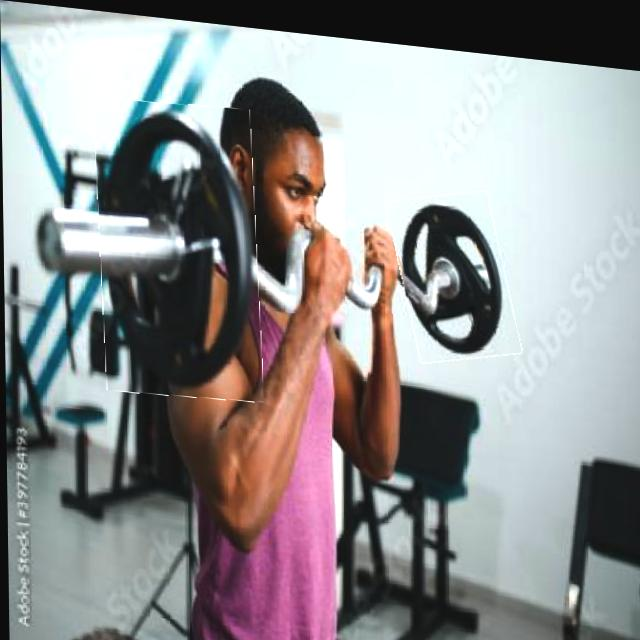barbell: (95, 93, 261, 402), (394, 176, 516, 358)
